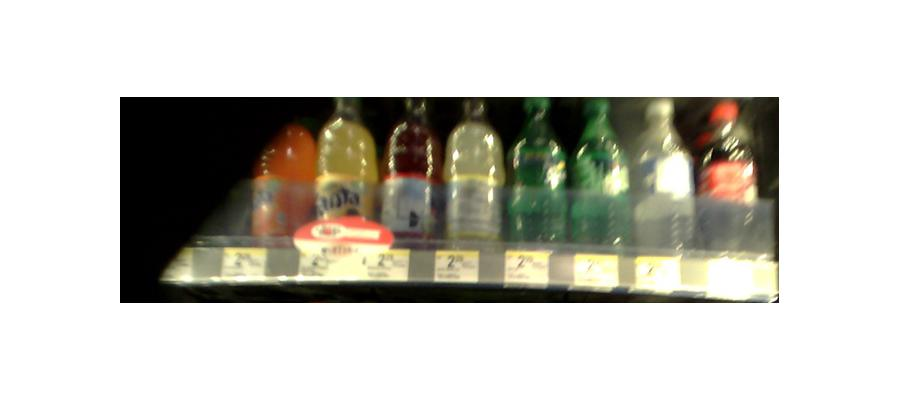bottle: (694, 99, 756, 259), (632, 99, 692, 258), (570, 97, 628, 250), (508, 97, 566, 247), (444, 101, 504, 244), (315, 95, 374, 239), (381, 97, 438, 243), (252, 115, 315, 241)
